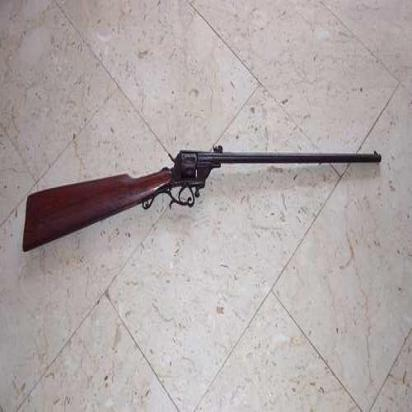Gun: (15, 127, 391, 277)
